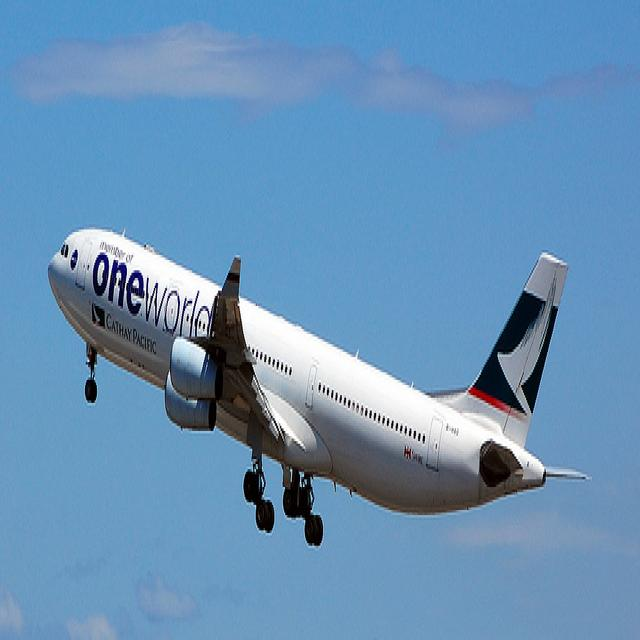airplane: (46, 222, 594, 551)
